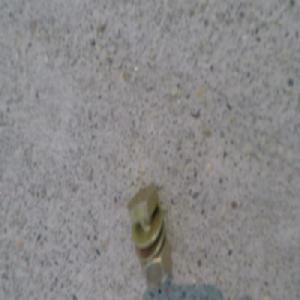BoltNutSet: (127, 185, 172, 285)
